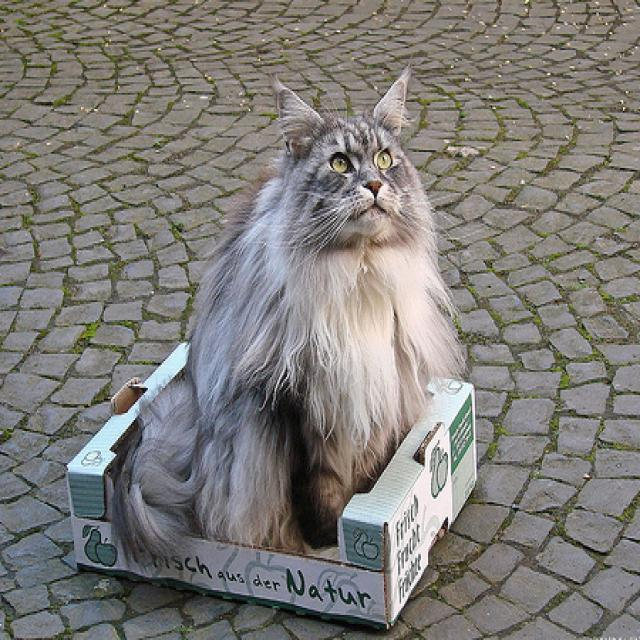Maine Coon: (109, 66, 471, 573)
